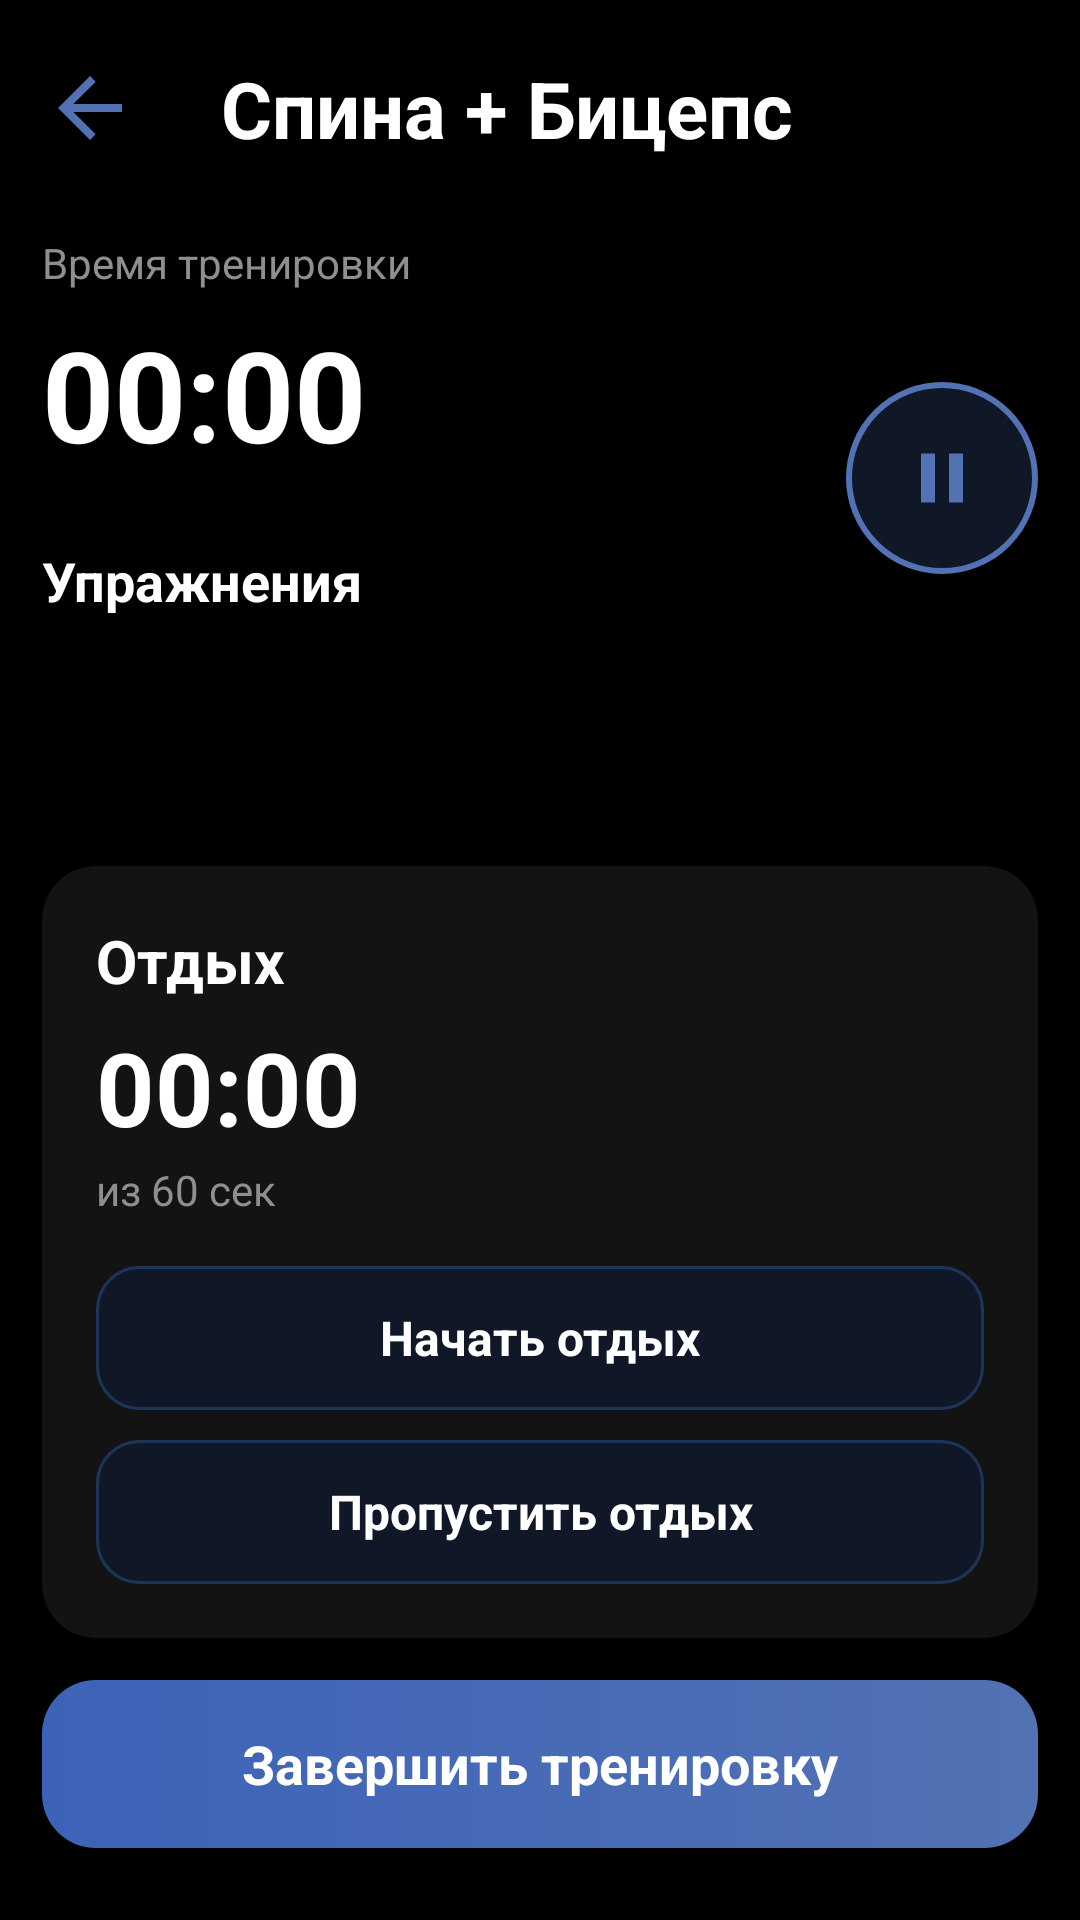

Icon click points for this 1080 × 1920 phone screenshot, format point (x, y):
arrow back: point (90, 108)
pause: point (942, 478)
